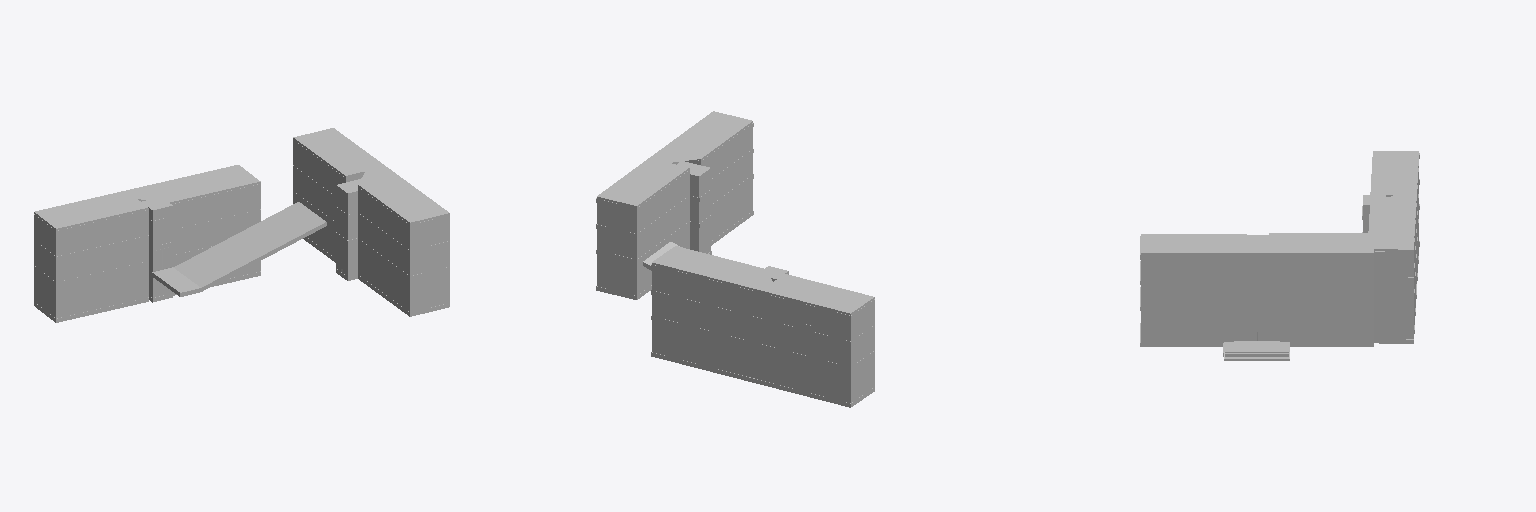
3 renders of one model, left to right at view 1: azimuth 30°, elevation 25°; view 2: azimuth 150°, elevation 25°; view 3: azimuth 270°, elevation 25°, orthographic.
Visible parts, largest first — view 1: building_005.002, building_005.001, building_007, building_004; view 2: building_005.002, building_005.001, building_004; view 3: building_005.001, building_005.002, building_005.
Boxes of the visible parts, box(x1,y1,x2,y2) form: building_005.002: box(34, 165, 260, 322); building_005.001: box(293, 128, 449, 316); building_007: box(142, 200, 326, 302); building_004: box(336, 179, 360, 280); building_005.002: box(651, 246, 874, 407); building_005.001: box(596, 111, 753, 299); building_004: box(677, 161, 711, 254); building_005.001: box(1140, 233, 1373, 346); building_005.002: box(1368, 151, 1419, 343); building_005: box(1223, 342, 1289, 360).
Size of the model in its own units: 150 by 59.47 by 118.